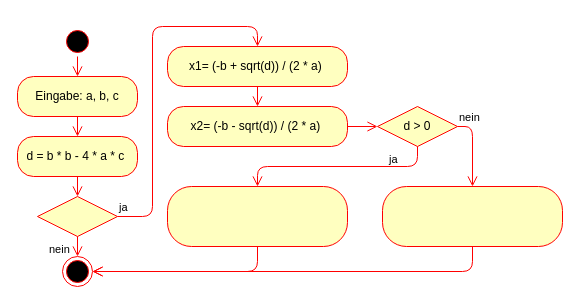
Some shapes in this 580 by 304 pixel diagram are drawn without their labels. Here are the shapes that lost their labels. From the top down, the centre of each, then its label:
At (x=77, y=216): "d >= 0".
At (x=257, y=216): "Ausgabe: „zwei Lösungen:“, x1,“und“, x2".
At (x=472, y=216): "Ausgabe: „eine Lösung:“, x1".
